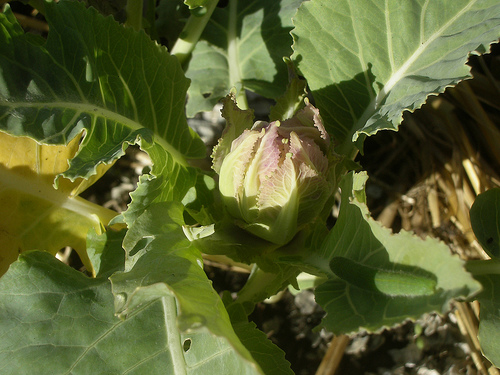cabbage: (218, 94, 338, 247)
